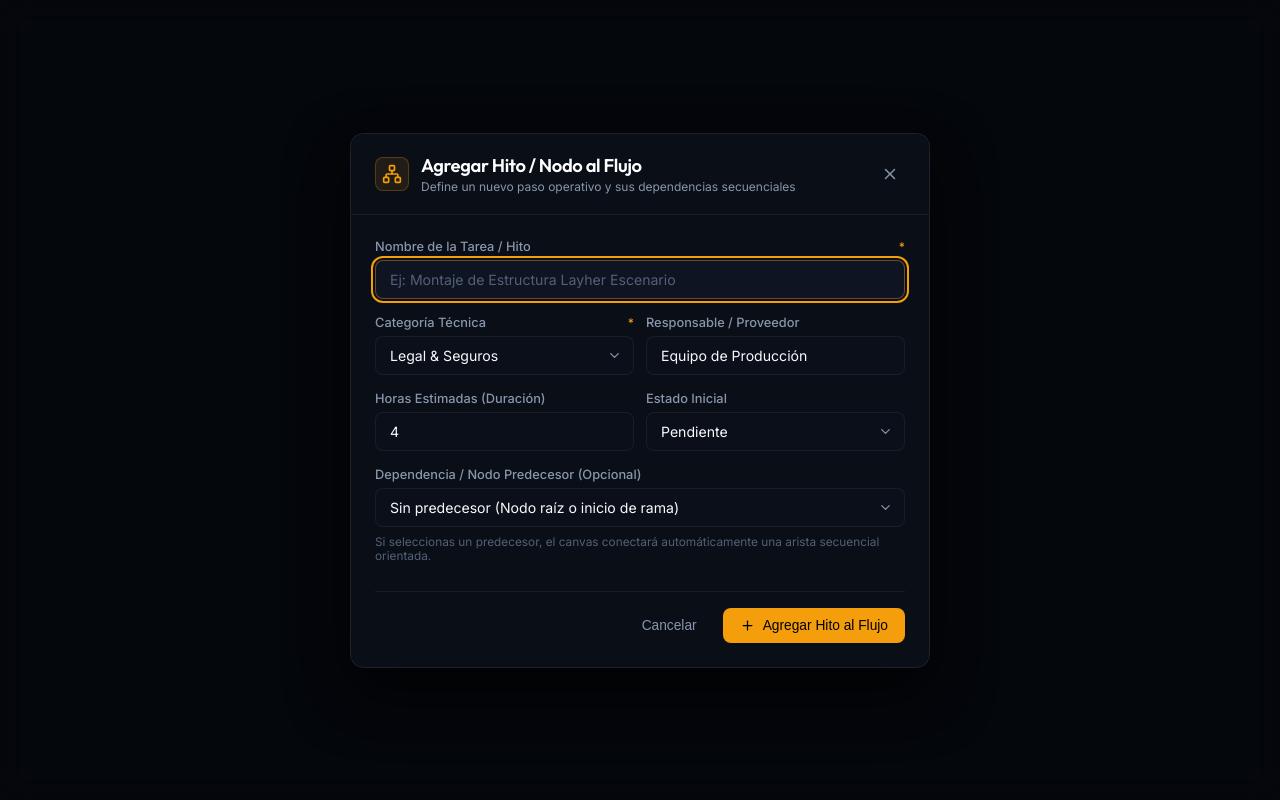
Test case: Workflow & Process Pipeline Suite › AddWorkflowNodeModal › muestra error de validación cuando la etiqueta del nodo es requerida
This screenshot has width=1280, height=800.
Click the button "Agregar Hito al Flujo" at (814,625), box [723,608,905,642]
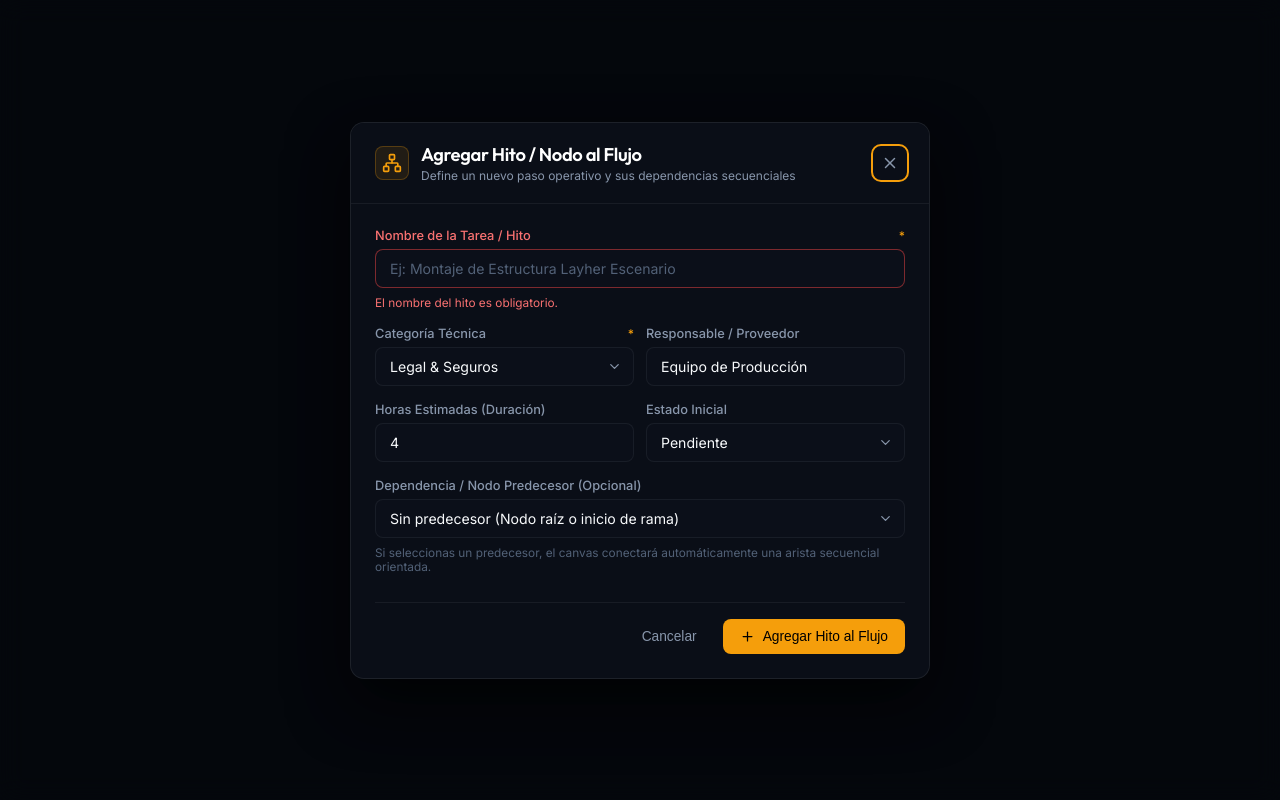
Now the text "El nombre del hito es obligatorio." is shown, box [375,296,558,310]
